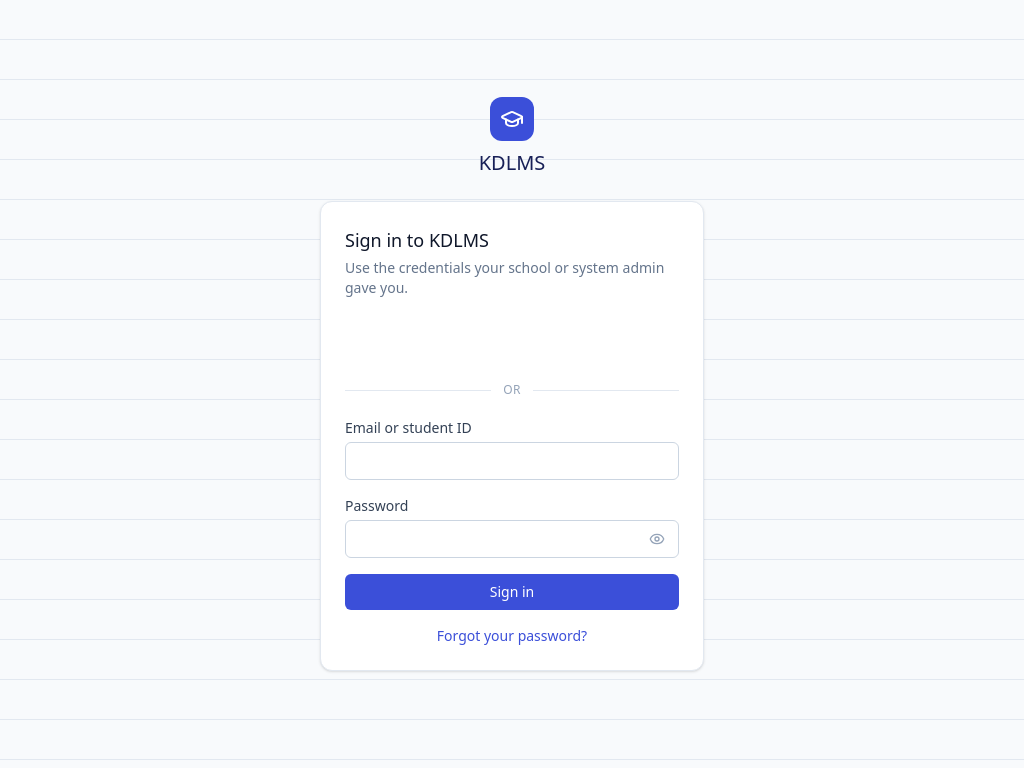
Test: LoginPage › does not show the platform-host link for an ordinary login failure
In the field labelled "Email or student ID": (512, 461) [345,442,679,480], type "admin@kdlms.com"
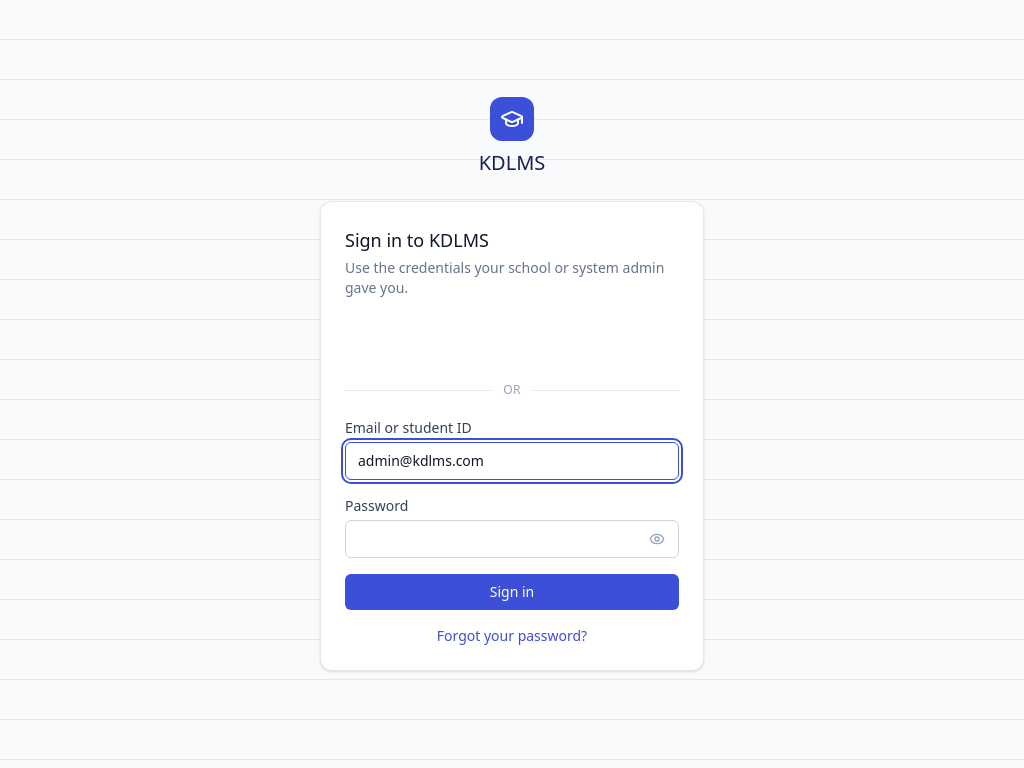
In the password field labelled "Password": (512, 539) [345,520,679,558], type "wrong-password"
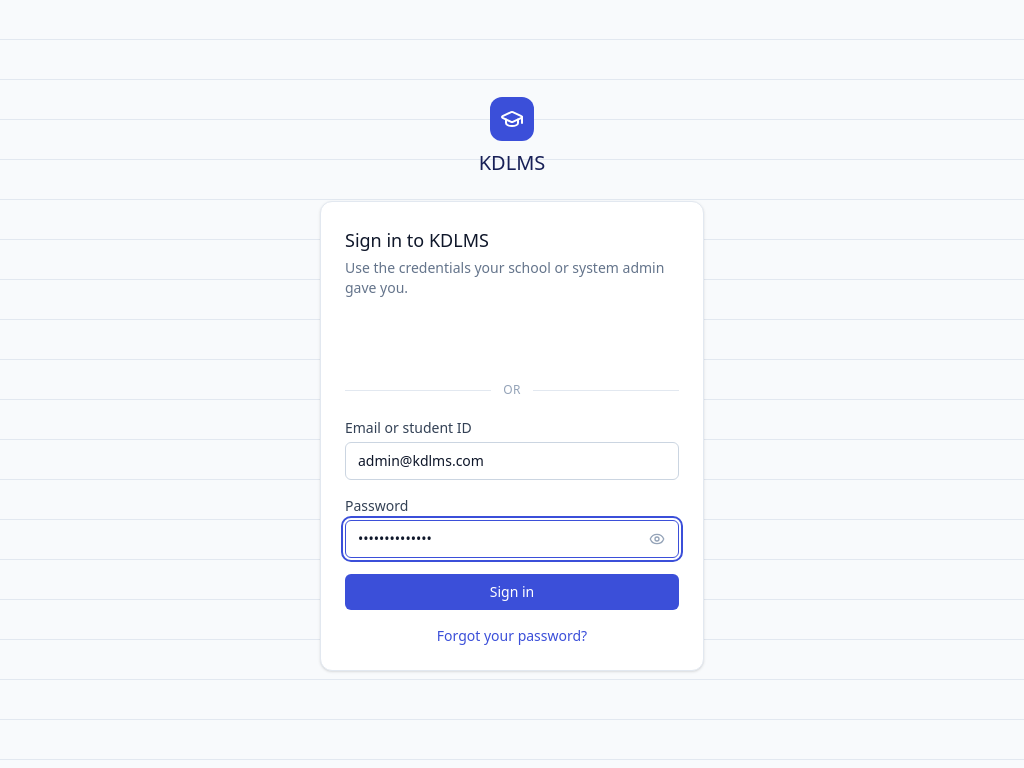
Click the button "Sign in": (512, 592) [345,574,679,610]
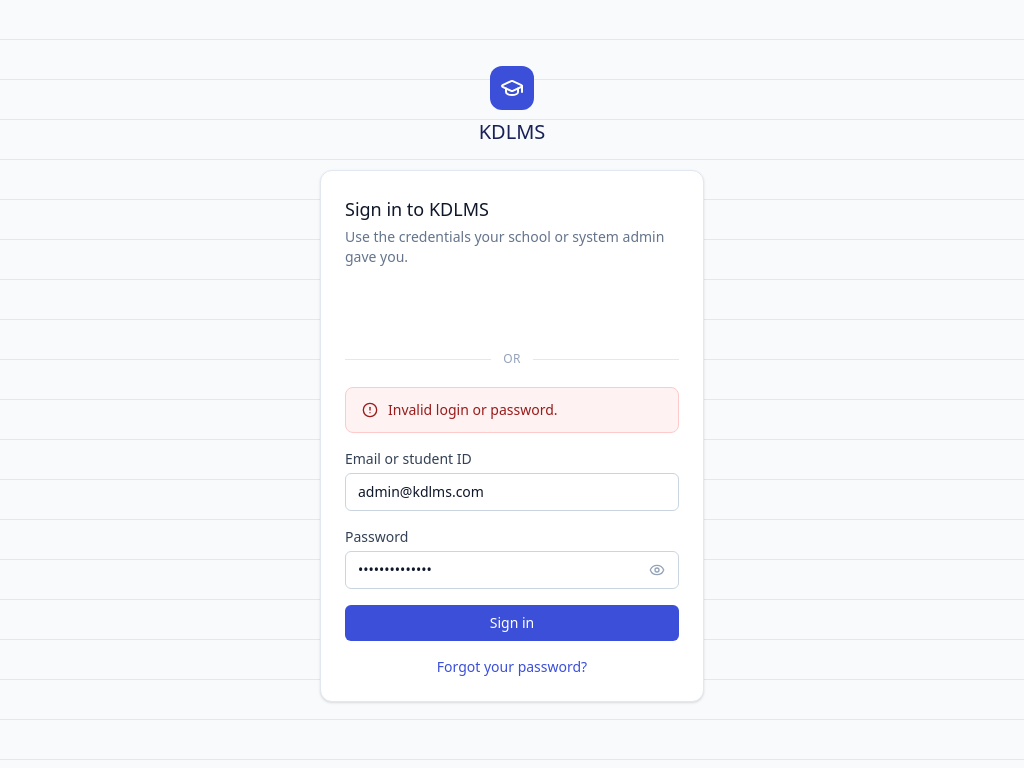
Expected: the text "Invalid login or password." is shown, [388,400,558,419]
